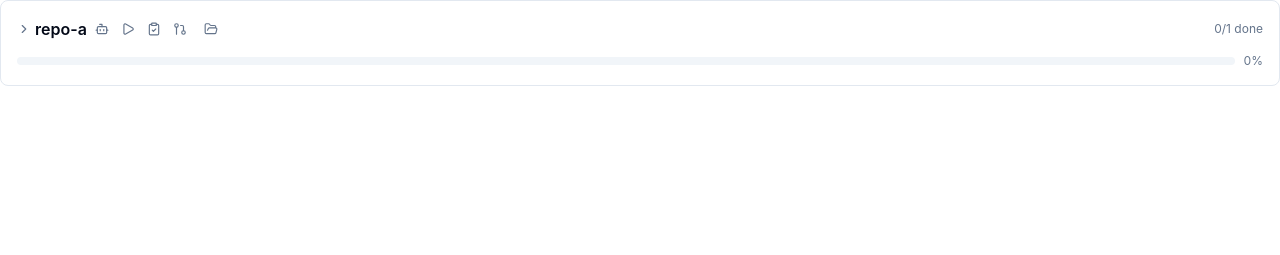
Test: RepoTodoCard collapsing › shows the items and the update form when the repo name is clicked
Click the button "repo-a".
click(52, 29)  # box [13,17,91,41]
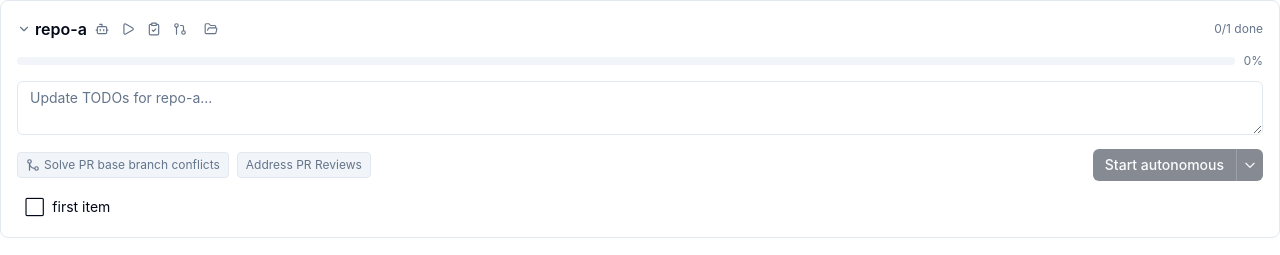
Expected: the button "repo-a" is expanded, [13,17,91,41]
Expected: the text "first item" is shown, [52,197,110,217]
Expected: the text box with placeholder "Update TODOs for repo-a..." is shown, [17,81,1263,135]
